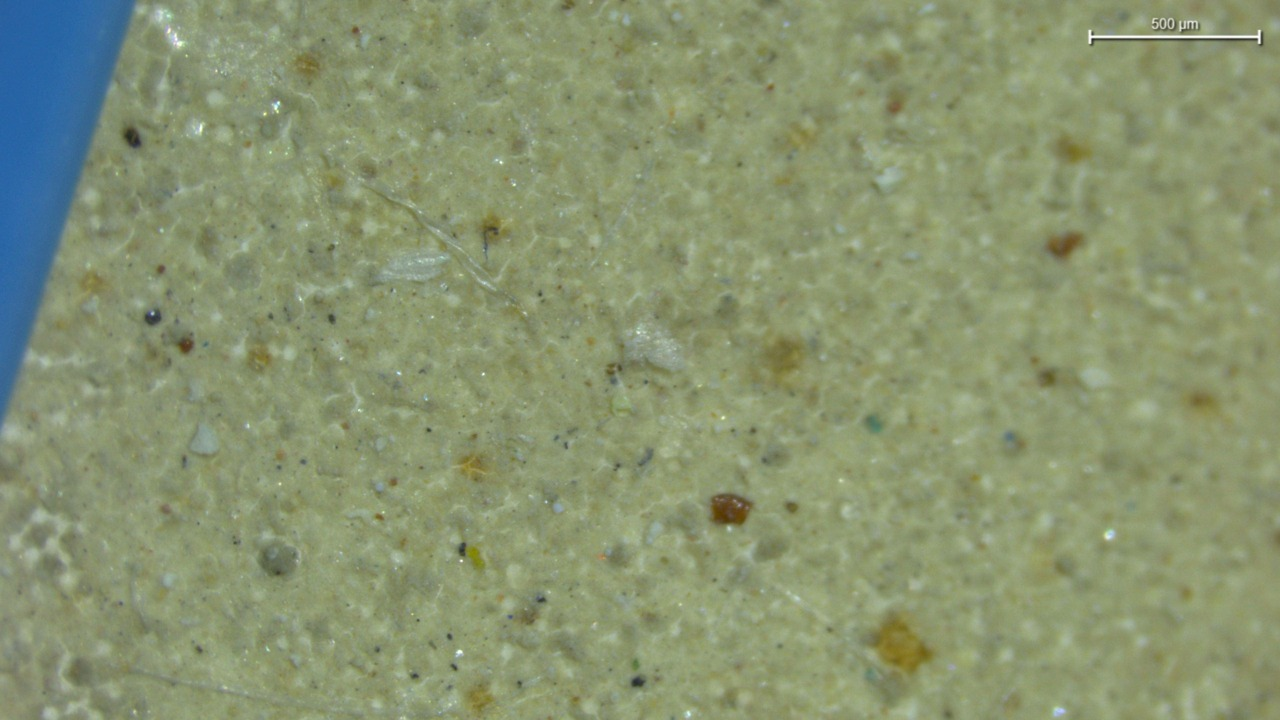microplastic_fragment: (623, 322, 684, 371), (373, 251, 450, 283), (189, 422, 219, 456)
